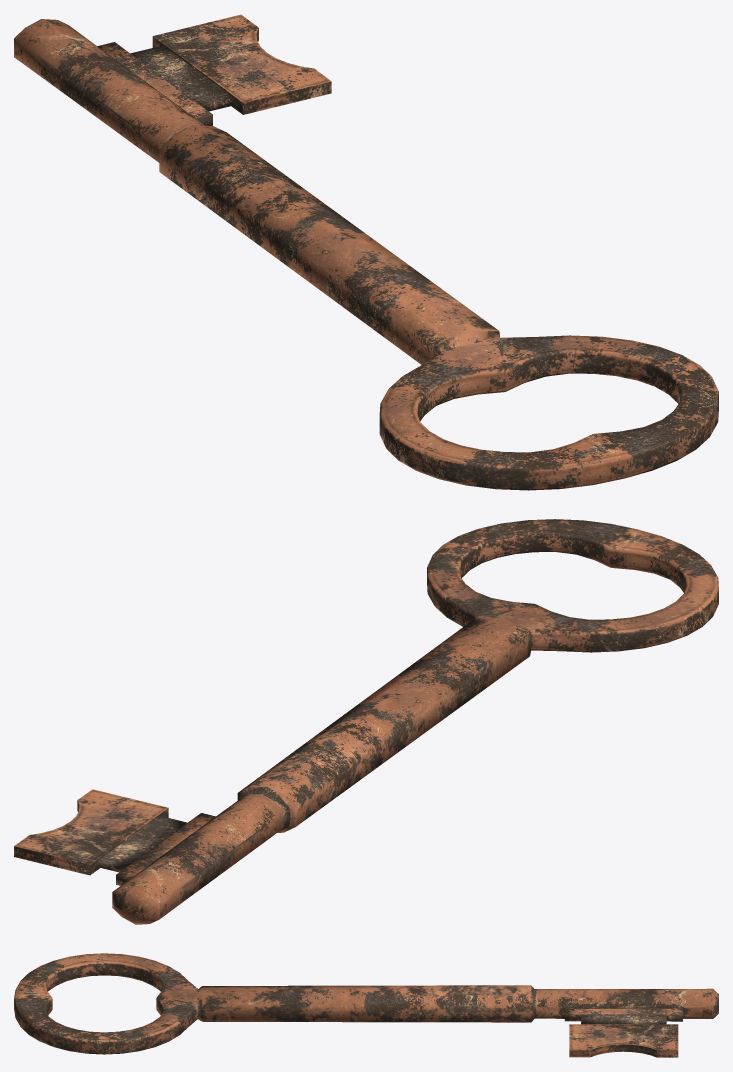
File: old_rusty_key.glb
3 renders of one model, top to bottom at view 1: azimuth 30°, elevation 25°; view 2: azimuth 150°, elevation 25°; view 3: azimuth 270°, elevation 25°, orthographic. The views are drawn at different scales.
Parts seen in each view (by area): view 1: Old_Key; view 2: Old_Key; view 3: Old_Key.
Part boxes in pixels (x1=…): Old_Key: x1=14, y1=14, x2=718, y2=490; Old_Key: x1=14, y1=519, x2=718, y2=924; Old_Key: x1=14, y1=953, x2=718, y2=1057.
Bounding box in the file's own units: 0.0416 × 0.00675 × 0.1315.
Materials: 1 (1 with a texture image).
